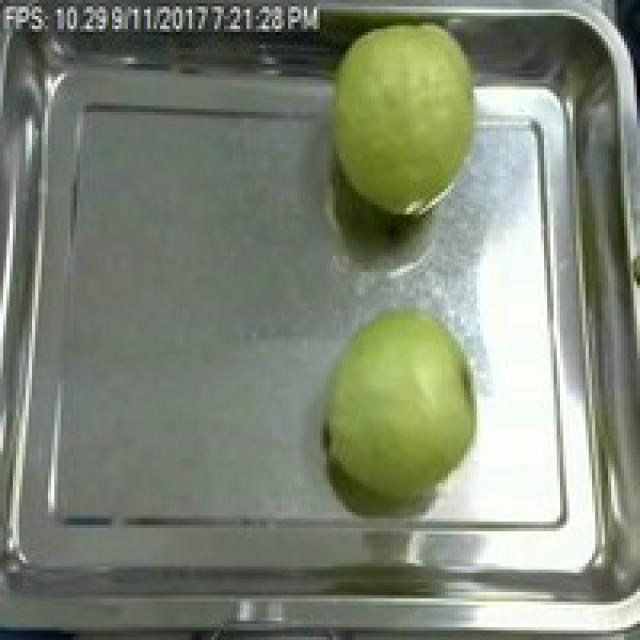Fruit: (307, 6, 493, 228), (308, 294, 487, 518)
